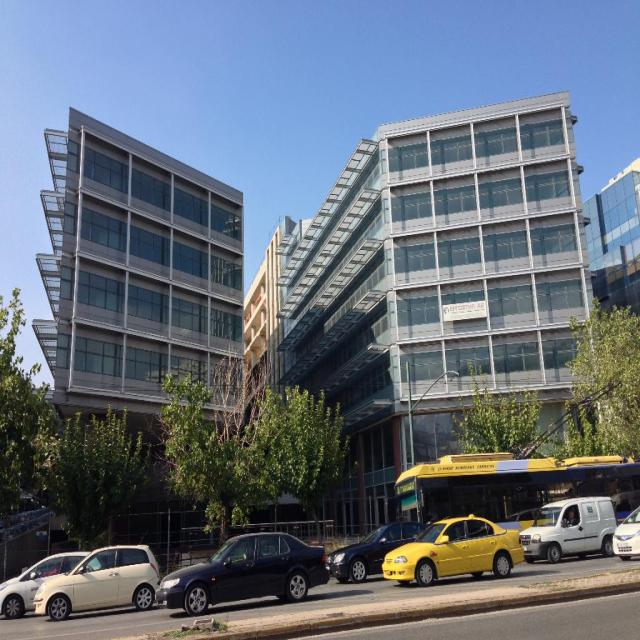car: (156, 529, 328, 617), (377, 512, 524, 586), (33, 544, 161, 619)
